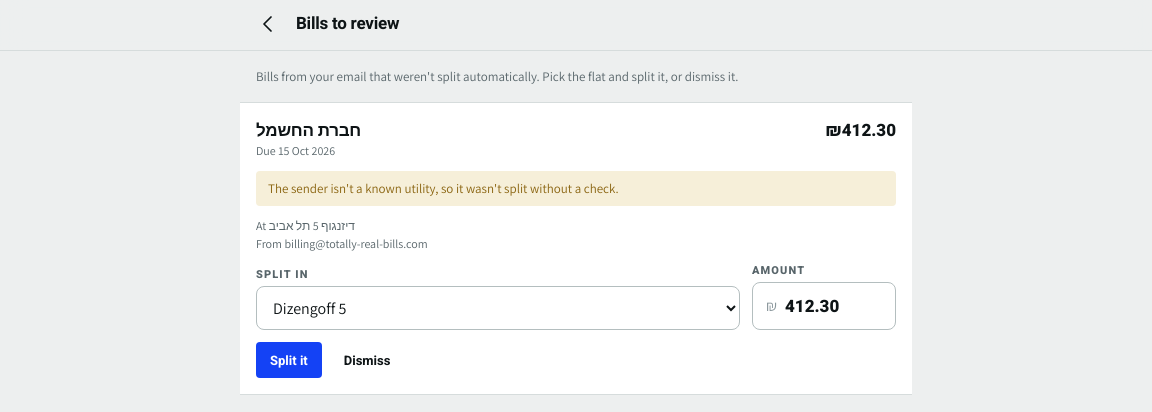
Test: bills to review › preselects the suggested flat and splits it there
Expected: the dropdown shows "Dizengoff 5", [256,286,740,330]
Click the button "Split it": (289, 360) [256,342,322,378]
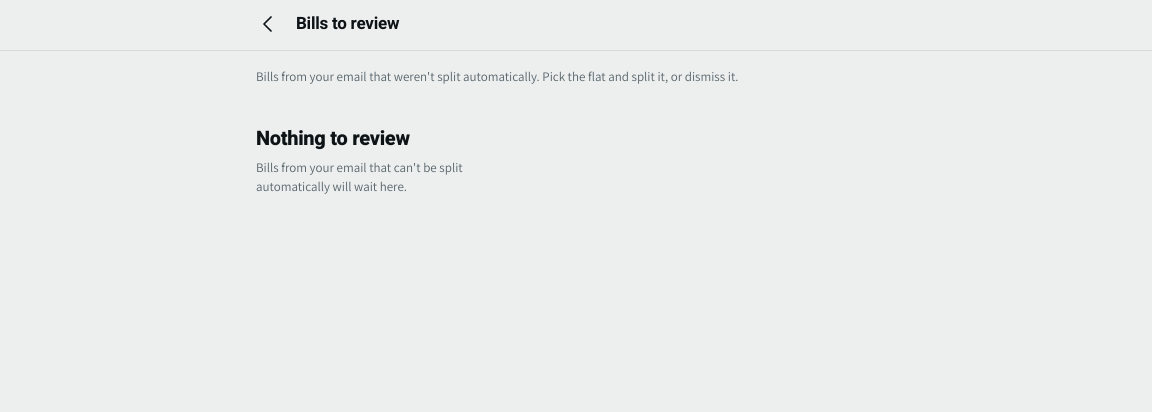
Expected: the heading "Nothing to review" is shown, [256,124,410,153]
